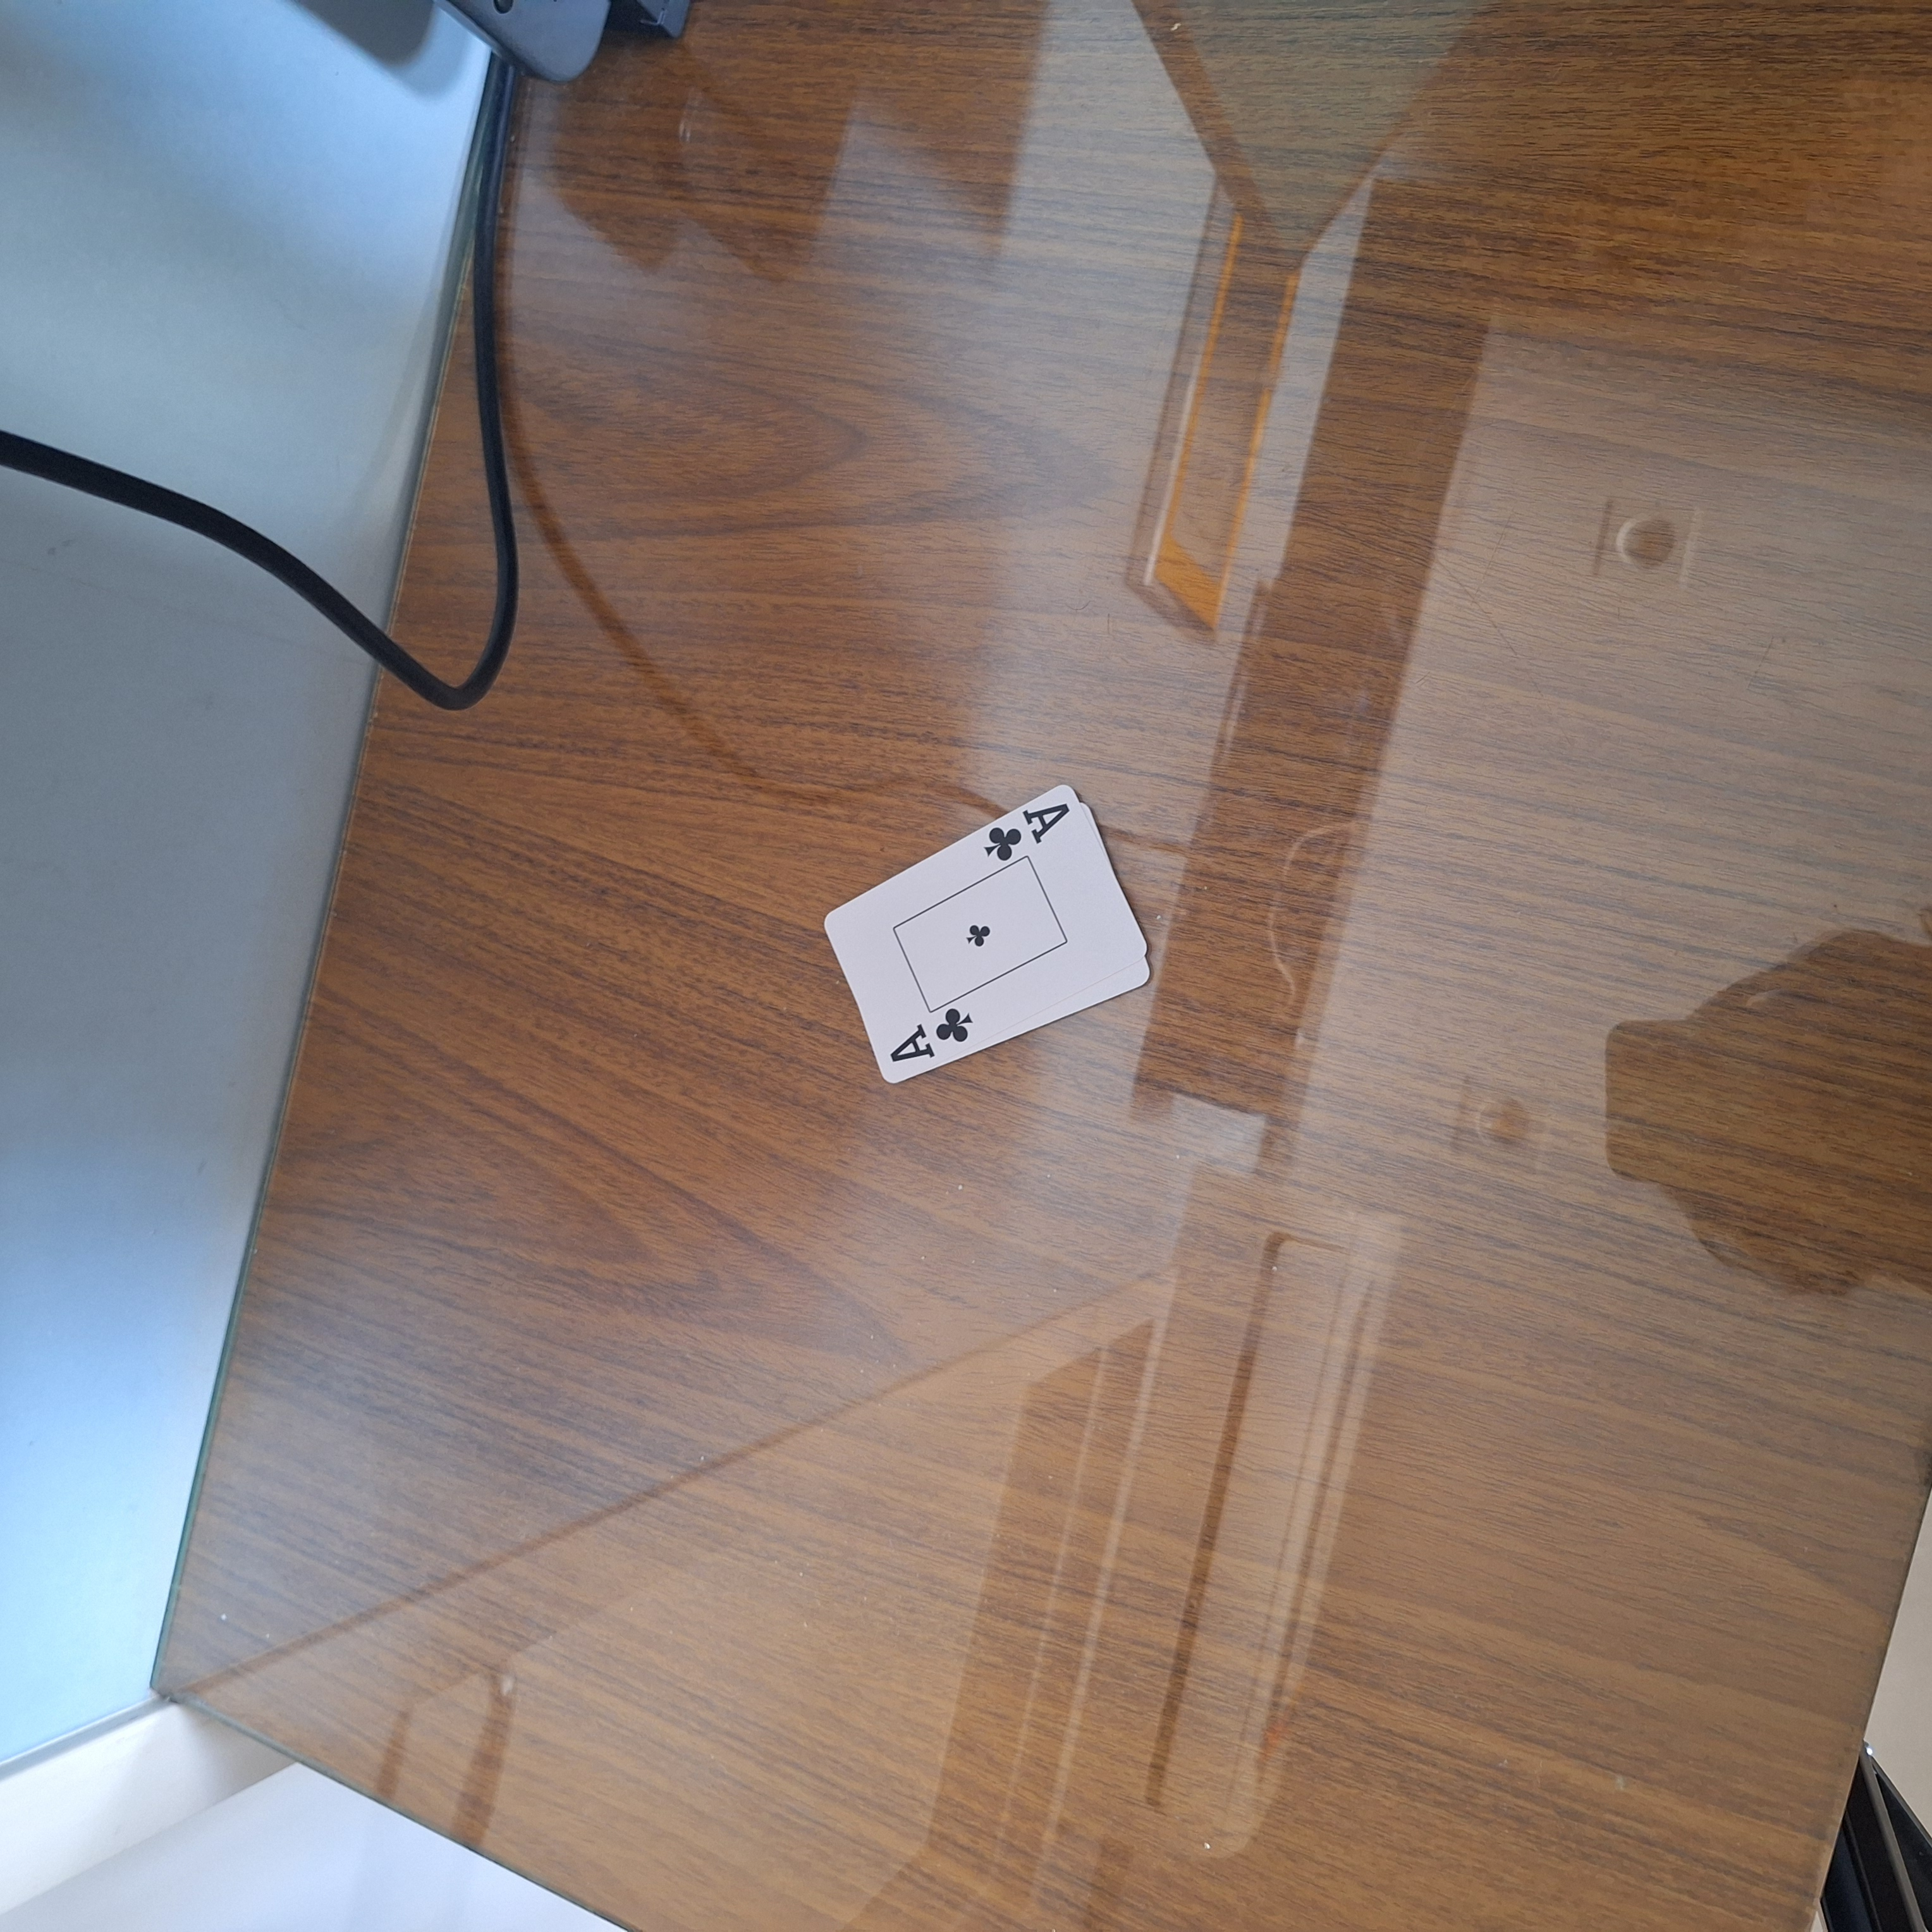AP: (977, 796, 1077, 869), (881, 1000, 984, 1065)
